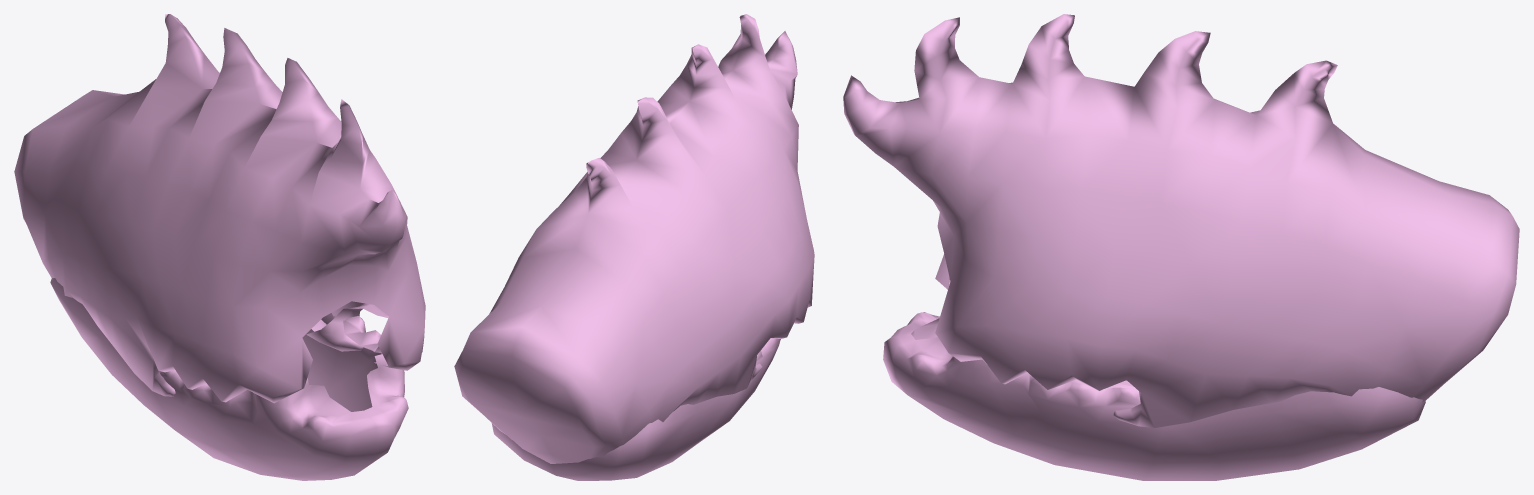
The model's file is Shrimp_Body_Nylon.fbx.
3 views of the same model, side by side, from view 1: azimuth 30°, elevation 25°; view 2: azimuth 150°, elevation 25°; view 3: azimuth 270°, elevation 25° (orthographic). The views are drawn at different scales.
Parts seen in each view (by area): view 1: Back_low, stomach_low.001; view 2: Back_low, stomach_low.001; view 3: Back_low, stomach_low.001.
Boxes of the visible parts, x1,y1,x2,y2 form: Back_low: [14, 14, 425, 403]; stomach_low.001: [50, 278, 408, 480]; Back_low: [454, 14, 814, 463]; stomach_low.001: [491, 338, 780, 480]; Back_low: [843, 14, 1519, 427]; stomach_low.001: [883, 312, 1425, 480].
Size of the model in its own units: 38.09 by 63.37 by 85.08.
